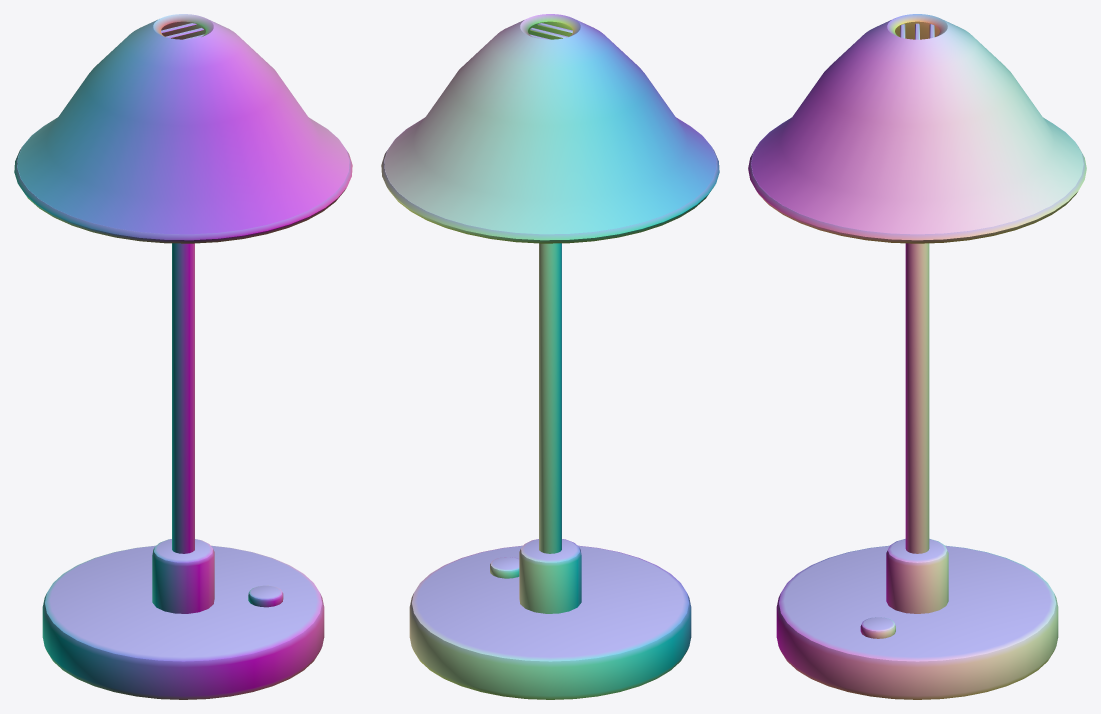
File: prop_lamp.glb
The picture shows the model from 3 angles, left to right: view 1: azimuth 30°, elevation 25°; view 2: azimuth 150°, elevation 25°; view 3: azimuth 270°, elevation 25°; orthographic projection.
Visible parts, largest first — view 1: prop_lamp_mesh; view 2: prop_lamp_mesh; view 3: prop_lamp_mesh.
Boxes of the visible parts, left/top/right/bottom form: prop_lamp_mesh: left=14, top=14, right=352, bottom=699; prop_lamp_mesh: left=381, top=14, right=719, bottom=699; prop_lamp_mesh: left=748, top=14, right=1086, bottom=699.
Size of the model in its own units: 0.346 by 0.695 by 0.346.
